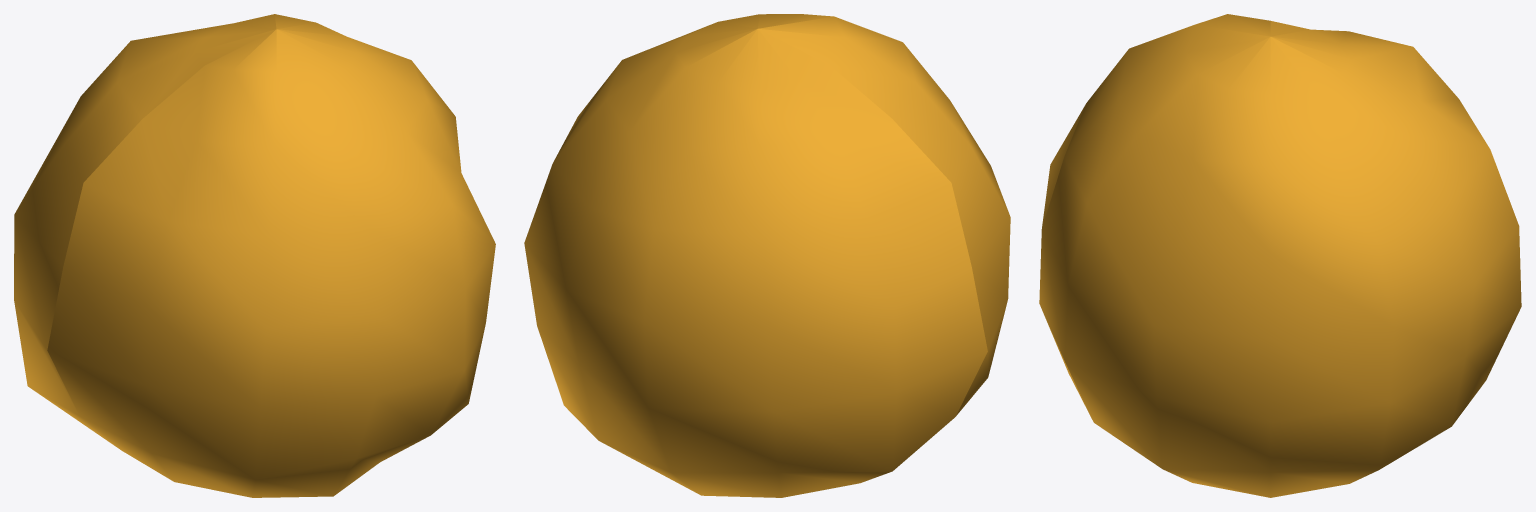
Rendered from grano-choclo-duro.glb.
The picture shows the model from 3 angles, left to right: view 1: azimuth 30°, elevation 25°; view 2: azimuth 150°, elevation 25°; view 3: azimuth 270°, elevation 25°; orthographic projection.
Visible parts, largest first — view 1: cuerpo; view 2: cuerpo; view 3: cuerpo.
Part boxes in pixels (bbox=[...]): cuerpo: bbox=[14, 14, 495, 497]; cuerpo: bbox=[524, 14, 1010, 497]; cuerpo: bbox=[1039, 14, 1521, 497].
Bounding box in the file's own units: 0.2431 × 0.2363 × 0.2424.
